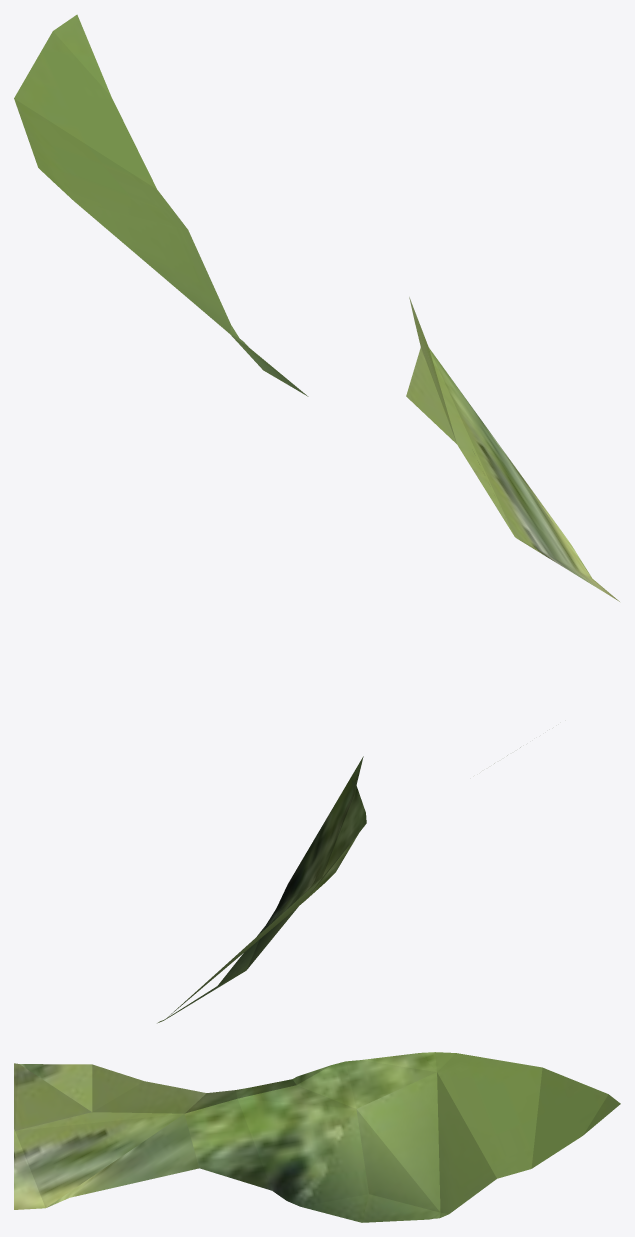
3 renders of one model, top to bottom at view 1: azimuth 30°, elevation 25°; view 2: azimuth 150°, elevation 25°; view 3: azimuth 270°, elevation 25°, orthographic. The views are drawn at different scales.
Size of the model in its own units: 3.56 by 3.82 by 17.68.
Materials: 1 (1 with a texture image).
